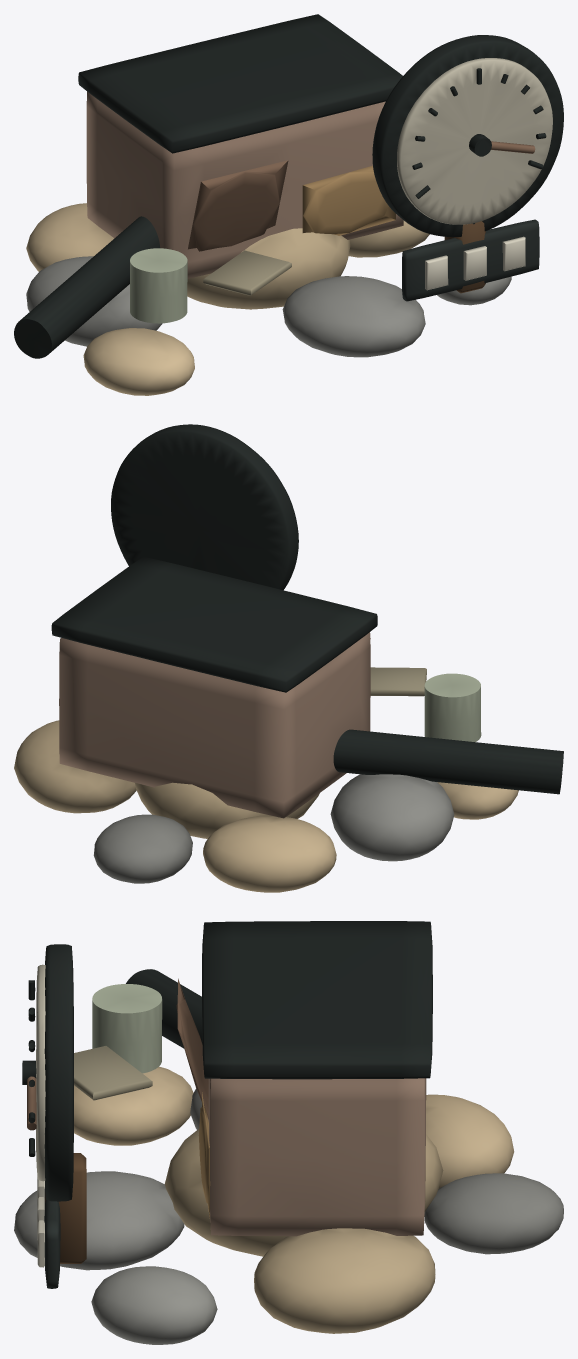
Rendered from storm_station_c.glb.
3 views of the same model, one above another, from view 1: azimuth 30°, elevation 25°; view 2: azimuth 150°, elevation 25°; view 3: azimuth 270°, elevation 25° (orthographic). The views are drawn at different scales.
Parts seen in each view (by area): view 1: Surface; view 2: Surface; view 3: Surface.
Part boxes in pixels (box(x1,y1,x2,y2)): Surface: box(14, 14, 563, 395); Surface: box(14, 424, 563, 892); Surface: box(14, 921, 563, 1344).
Size of the model in its own units: 5.17 by 2.93 by 4.05.
